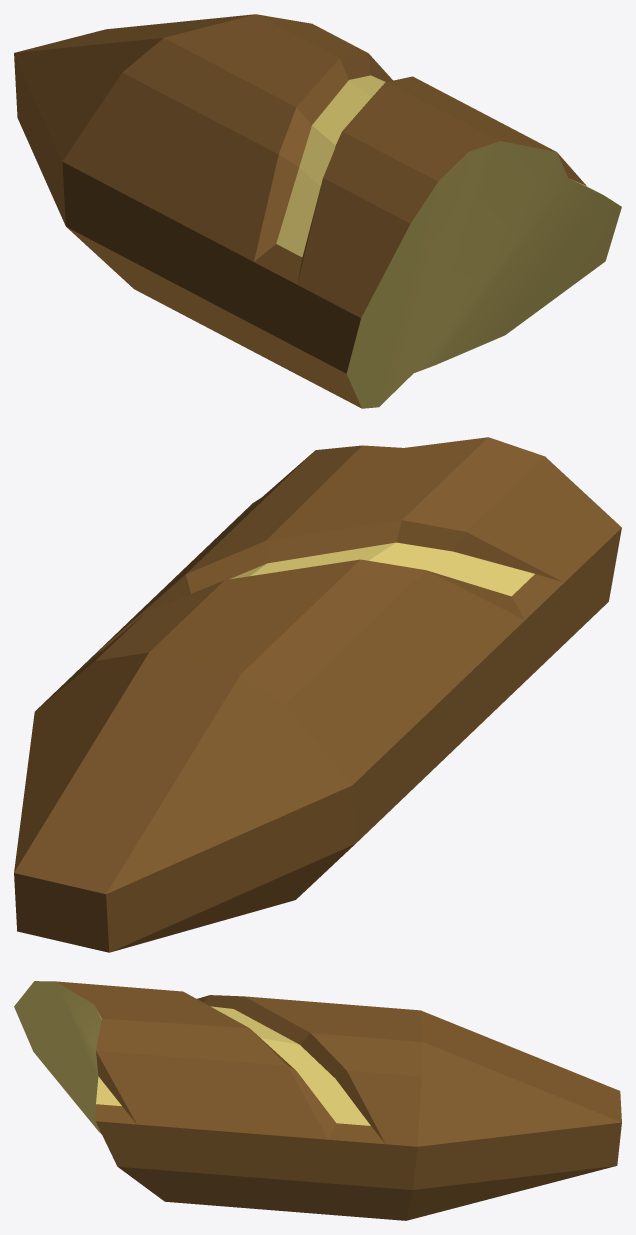
File: food_baguette_halfeaten.fbx
The picture shows the model from 3 angles, top to bottom: view 1: azimuth 30°, elevation 25°; view 2: azimuth 150°, elevation 25°; view 3: azimuth 270°, elevation 25°; orthographic projection. The views are drawn at different scales.
Visible parts, largest first — view 1: polySurface136; view 2: polySurface136; view 3: polySurface136.
Part boxes in pixels (bbox=[...]): polySurface136: bbox=[14, 14, 621, 408]; polySurface136: bbox=[14, 437, 621, 952]; polySurface136: bbox=[14, 981, 621, 1220].
Bounding box in the file's own units: 36.75 × 31.94 × 84.5.
Materials: 1 (1 with a texture image).
